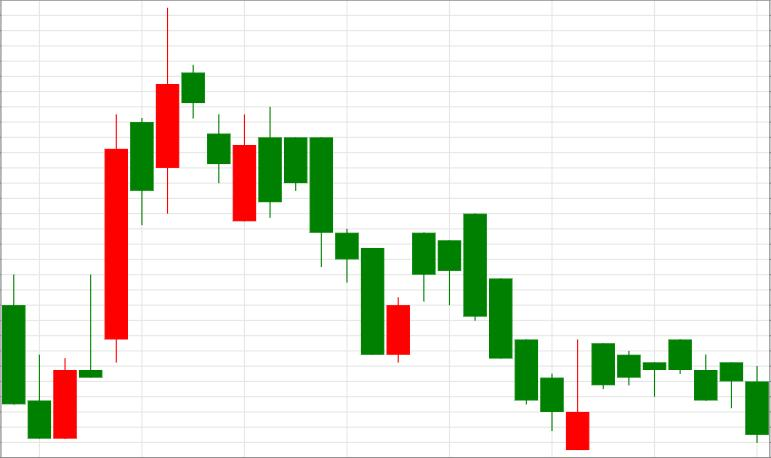inverse_hammer_rise: (412, 214, 589, 451)
